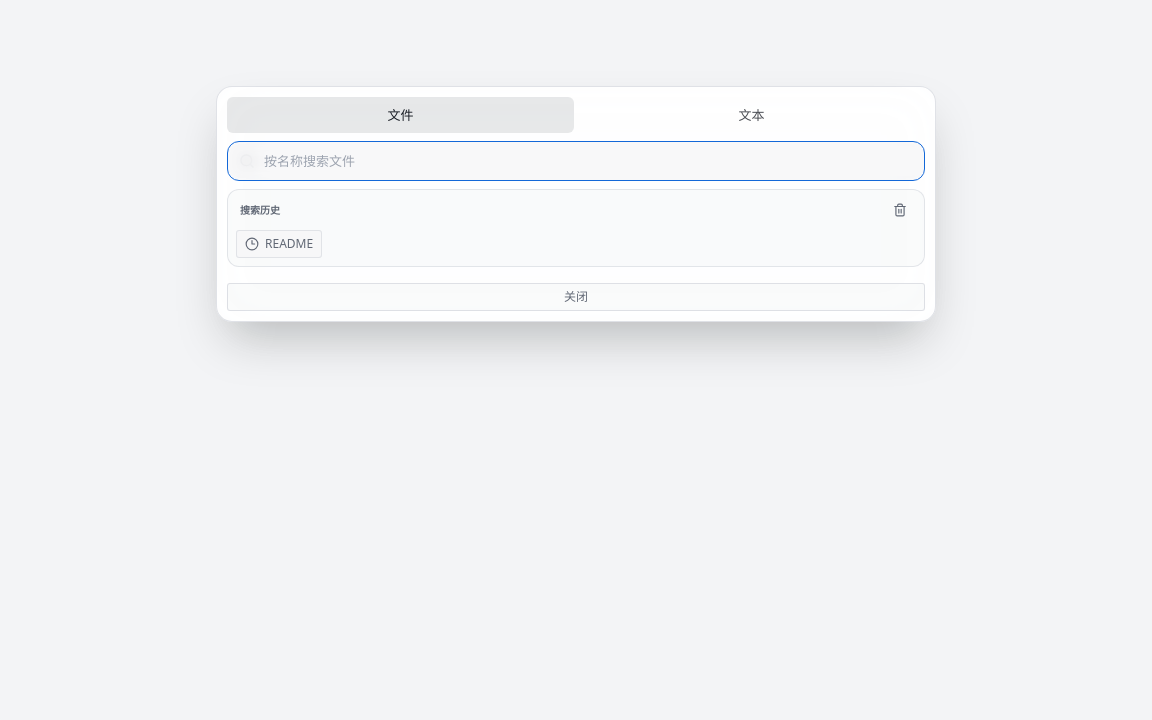
Test: QuickSearch › clears search history
Click the button named "清空搜索历史" at (900, 210), box [888,198,912,222]
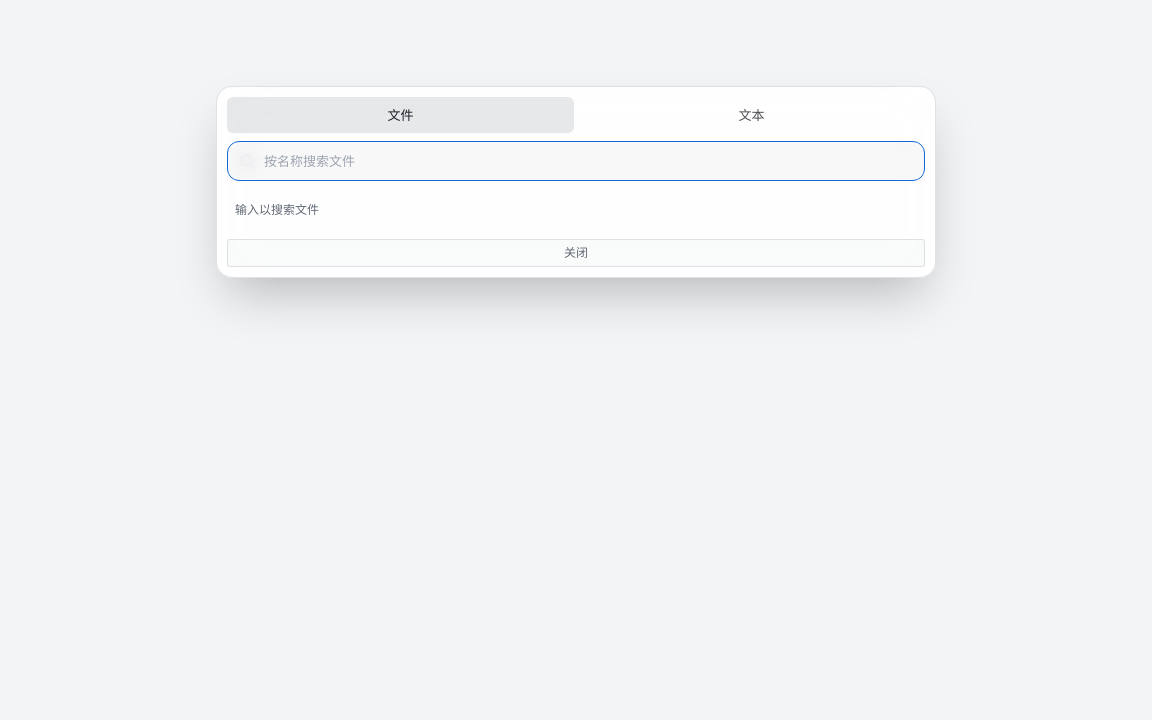
Expected: the text "输入以搜索文件" is shown, [235,201,319,218]
